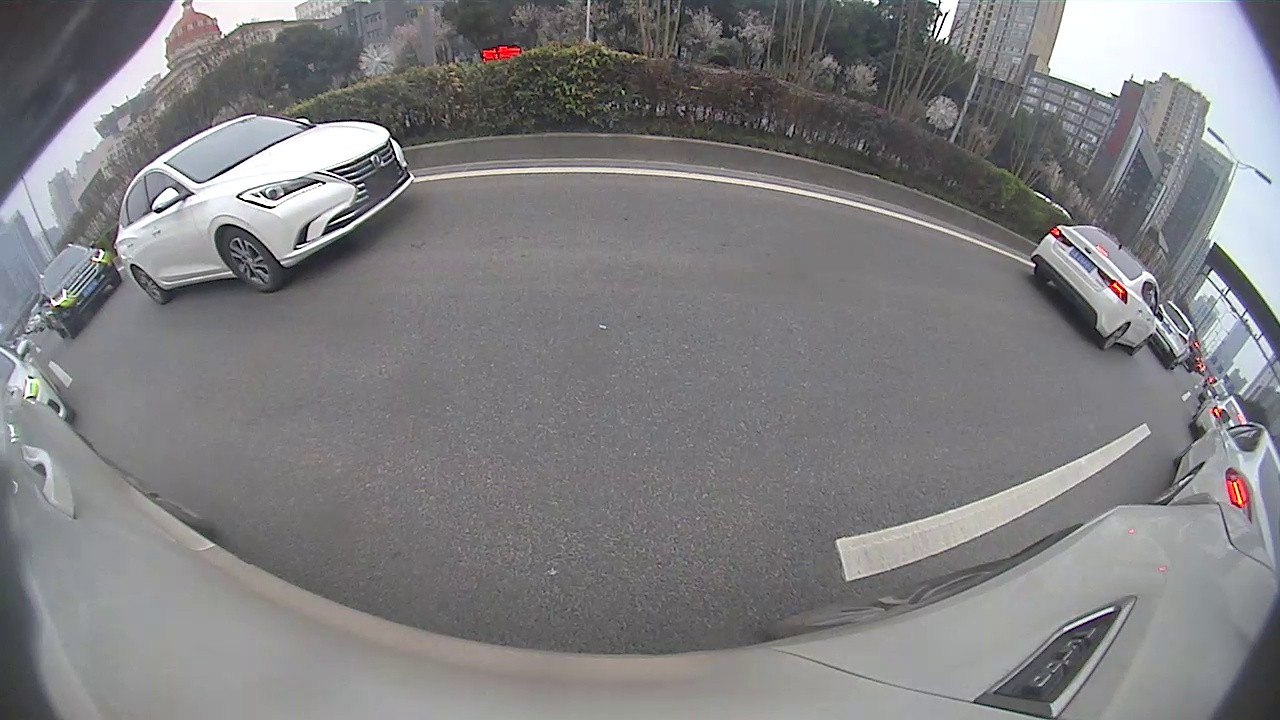car: (112, 111, 416, 305), (1030, 222, 1165, 357), (1148, 407, 1278, 540), (37, 241, 121, 341)
front: (222, 230, 283, 294)
rear: (131, 264, 167, 303), (1100, 323, 1129, 353)
